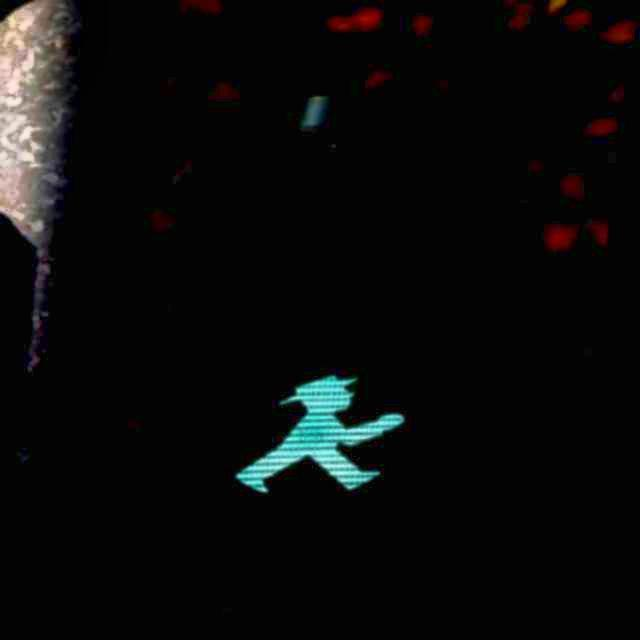semaforo pedestre: (63, 20, 564, 637)
